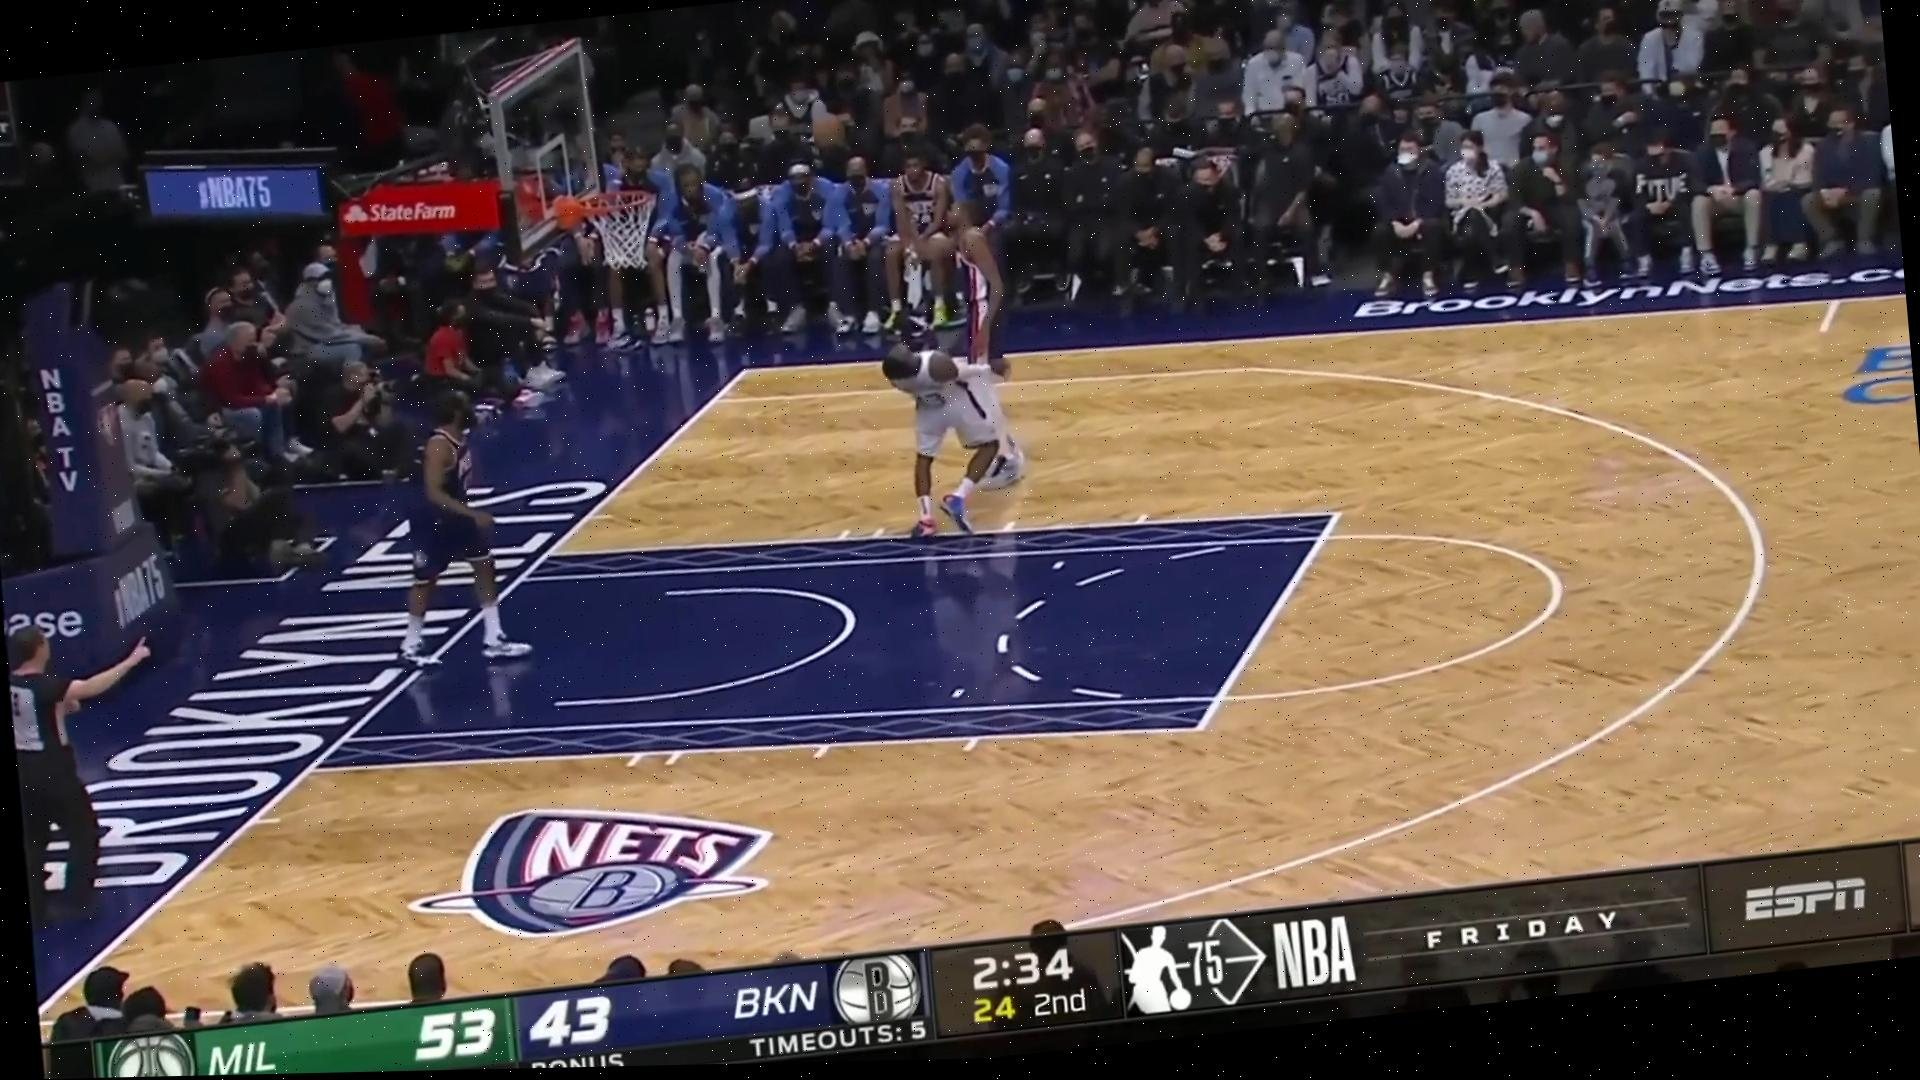no_foul: (857, 183, 1069, 547)
